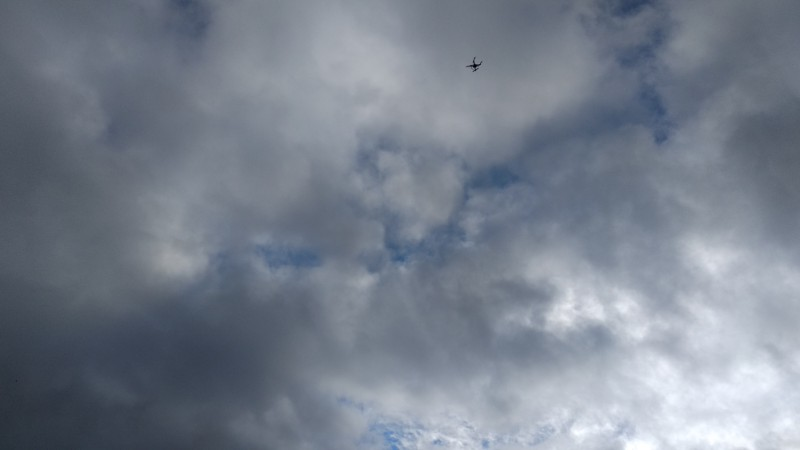drone: (466, 58, 484, 73)
